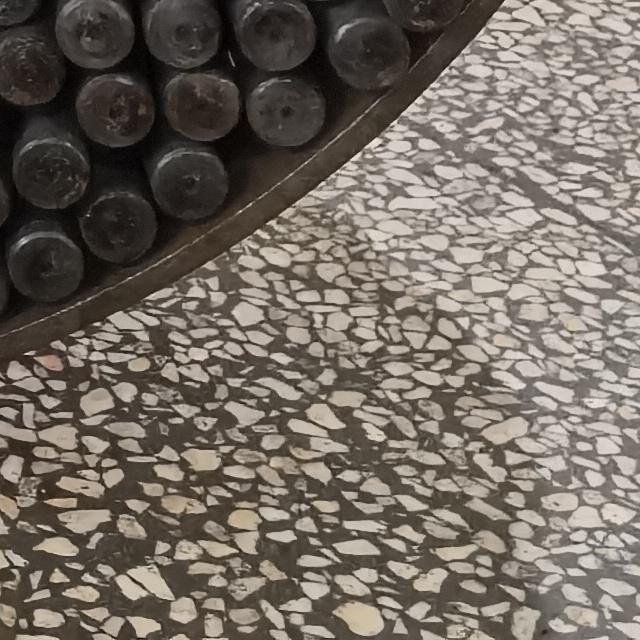tool: (324, 0, 410, 86), (77, 71, 156, 149), (157, 71, 242, 143), (246, 74, 325, 147), (10, 137, 91, 207), (0, 24, 63, 112), (54, 0, 134, 67), (7, 231, 85, 299), (239, 3, 315, 71), (145, 1, 220, 68), (80, 196, 156, 260), (153, 150, 228, 212), (373, 1, 479, 30), (0, 0, 39, 24)
